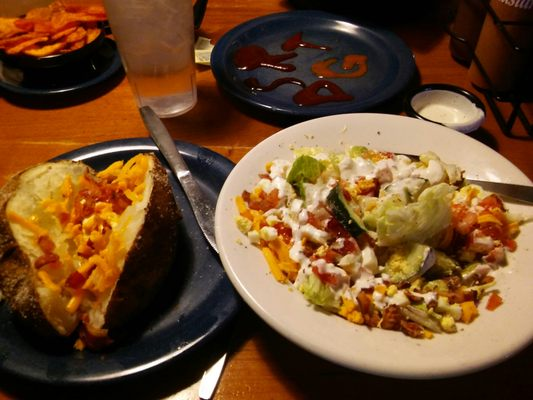pizza: (102, 0, 200, 118)
sandwich: (136, 104, 245, 368)
sushi: (213, 110, 533, 381)
